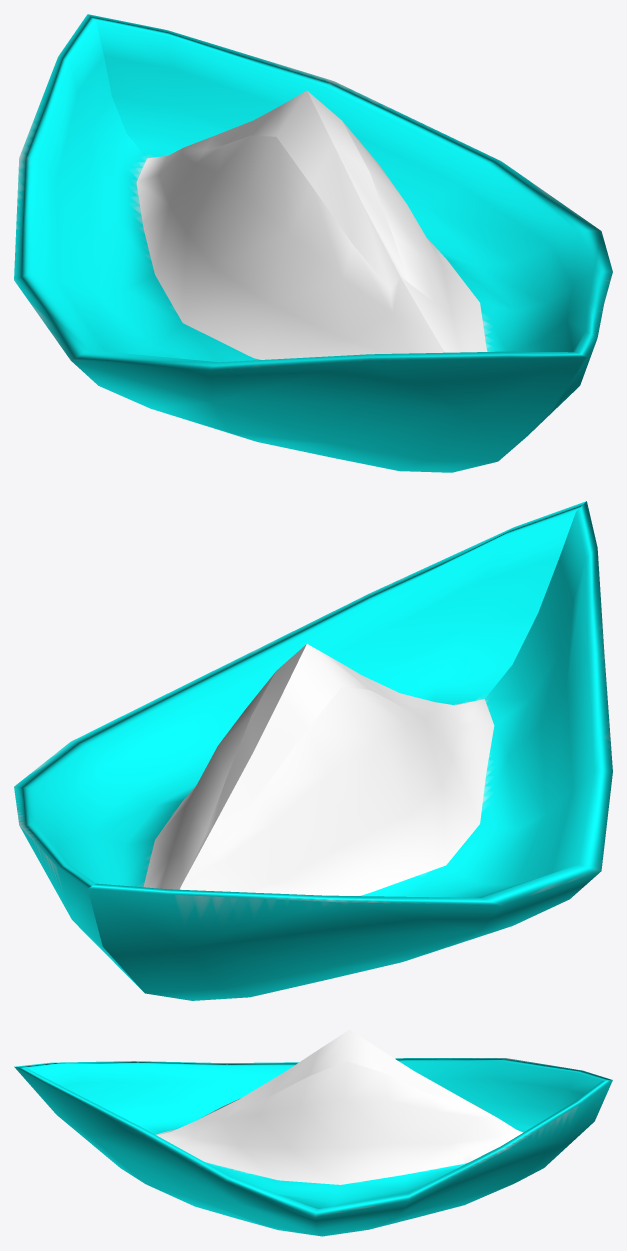
Rendered from TealBoat.fbx.
3 renders of one model, top to bottom at view 1: azimuth 30°, elevation 25°; view 2: azimuth 150°, elevation 25°; view 3: azimuth 270°, elevation 25°, orthographic. The views are drawn at different scales.
Parts seen in each view (by area): view 1: polySurface1; view 2: polySurface1; view 3: polySurface1.
Part boxes in pixels (x1,y1,x2,y2): polySurface1: (14,14,612,472); polySurface1: (14,501,612,1000); polySurface1: (14,1029,612,1236).
Bounding box in the file's own units: 111 × 59 × 181.
Materials: 1 (1 with a texture image).
